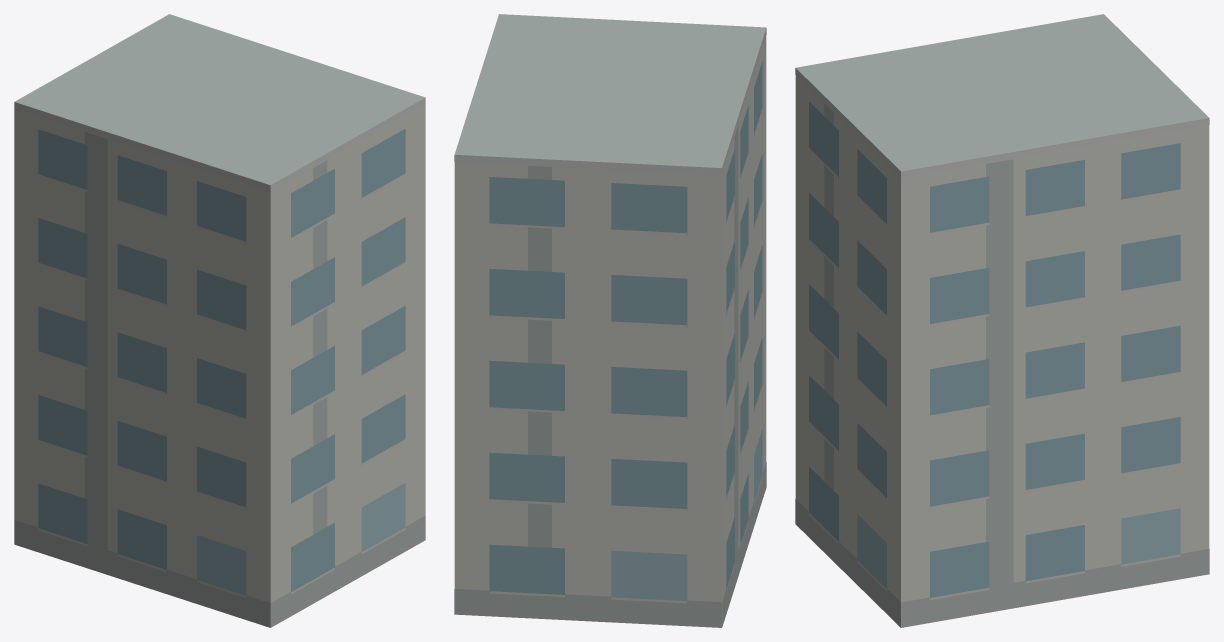
Rendered from survey-upis-32866432.glb.
The picture shows the model from 3 angles, left to right: view 1: azimuth 30°, elevation 25°; view 2: azimuth 150°, elevation 25°; view 3: azimuth 270°, elevation 25°; orthographic projection. The views are drawn at different scales.
Parts seen in each view (by area): view 1: survey-upis-32866432.tmp; view 2: survey-upis-32866432.tmp; view 3: survey-upis-32866432.tmp.
Boxes of the visible parts, x1=… form: survey-upis-32866432.tmp: x1=14, y1=14, x2=425, y2=627; survey-upis-32866432.tmp: x1=454, y1=14, x2=766, y2=627; survey-upis-32866432.tmp: x1=795, y1=14, x2=1209, y2=627.
Size of the model in its own units: 11.3 by 15.25 by 12.55.
